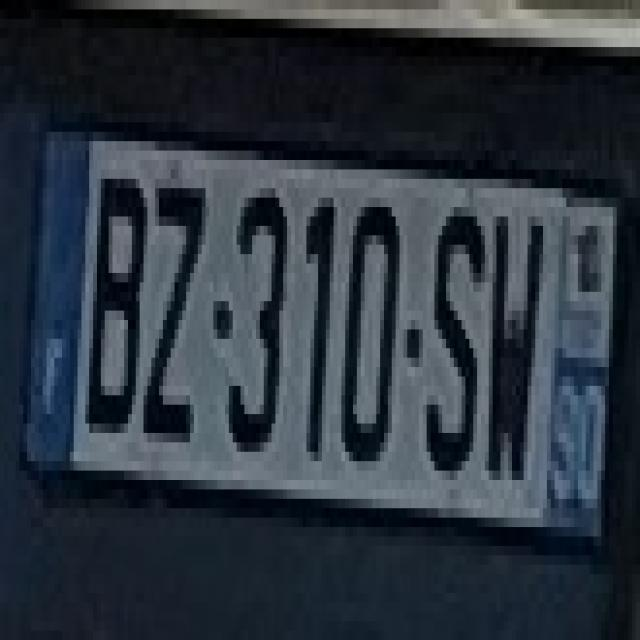EU: (21, 124, 616, 532)
France: (22, 124, 93, 459)
